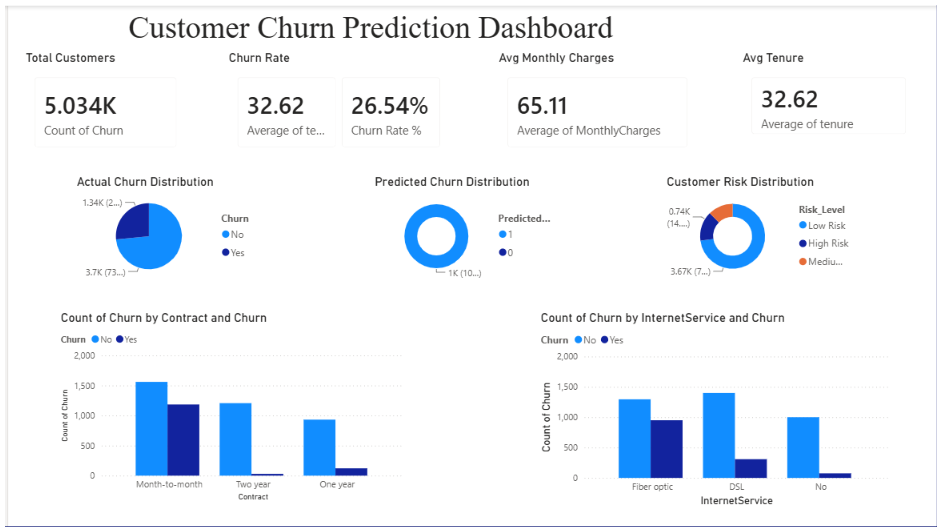

The dashboard page shown, as its layout file describes it:
{"tool":"powerbi","page":{"name":"Executive Summary","canvas":[1280,720],"ordinal":0},"visuals":[{"type":"textbox","box":[9.6,0,975.6,60.4],"z":0},{"type":"cardVisual","title":"Avg Monthly Charges","fields":{"Data":["Avg(powerbi_churn_predictions.MonthlyCharges)"]},"box":[668.3,60.4,281.3,150.9],"z":1000},{"type":"cardVisual","title":"Avg Tenure","fields":{"Data":["Avg(powerbi_churn_predictions.tenure)"]},"box":[1003.1,60.4,247,133.1],"z":2000},{"type":"cardVisual","title":"Total Customers","fields":{"Data":["CountNonNull(powerbi_churn_predictions.Churn)"]},"box":[19.2,60.4,229.2,150.9],"z":3000},{"type":"pieChart","title":"Actual Churn Distribution","fields":{"Y":["CountNonNull(powerbi_churn_predictions.Churn)"],"Category":["powerbi_churn_predictions.Churn"]},"box":[89.2,230.5,266.2,150.9],"z":4000},{"type":"cardVisual","title":"Churn Rate","fields":{"Data":["Avg(powerbi_churn_predictions.tenure)","powerbi_churn_predictions.Churn Rate %"]},"box":[297.8,60.4,312.9,150.9],"z":5000},{"type":"donutChart","title":"Predicted Churn Distribution","fields":{"Y":["Sum(powerbi_churn_predictions.Predicted_Churn)"],"Category":["powerbi_churn_predictions.Predicted_Churn"]},"box":[498.1,230.5,259.3,150.9],"z":6000},{"type":"donutChart","title":"Customer Risk Distribution","fields":{"Category":["powerbi_churn_predictions.Risk_Level"],"Y":["CountNonNull(powerbi_churn_predictions.Risk_Level)"]},"box":[898.8,230.5,269,150.9],"z":7000},{"type":"clusteredColumnChart","fields":{"Category":["powerbi_churn_predictions.Contract"],"Series":["powerbi_churn_predictions.Churn"],"Y":["CountNonNull(powerbi_churn_predictions.Churn)"]},"box":[67.2,417.2,481.6,267.6],"z":8000},{"type":"clusteredColumnChart","fields":{"Category":["powerbi_churn_predictions.InternetService"],"Y":["CountNonNull(powerbi_churn_predictions.Churn)"],"Series":["powerbi_churn_predictions.Churn"]},"box":[725.9,417.2,487.1,274.4],"z":9000}]}

Visuals, with their boxes in screenshot pixels (x1, y1, x2, y2), scaled from the page's 1280x720 canvas onto the 942x532 screenshot:
textbox: x1=7, y1=0, x2=725, y2=45
"Avg Monthly Charges" cardVisual: x1=492, y1=45, x2=699, y2=156
"Avg Tenure" cardVisual: x1=738, y1=45, x2=920, y2=143
"Total Customers" cardVisual: x1=14, y1=45, x2=183, y2=156
"Actual Churn Distribution" pieChart: x1=66, y1=170, x2=262, y2=282
"Churn Rate" cardVisual: x1=219, y1=45, x2=449, y2=156
"Predicted Churn Distribution" donutChart: x1=367, y1=170, x2=557, y2=282
"Customer Risk Distribution" donutChart: x1=661, y1=170, x2=859, y2=282
clusteredColumnChart - powerbi_churn_predictions.Contract x powerbi_churn_predictions.Churn: x1=49, y1=308, x2=404, y2=506
clusteredColumnChart - powerbi_churn_predictions.InternetService x CountNonNull(powerbi_churn_predictions.Churn): x1=534, y1=308, x2=893, y2=511
